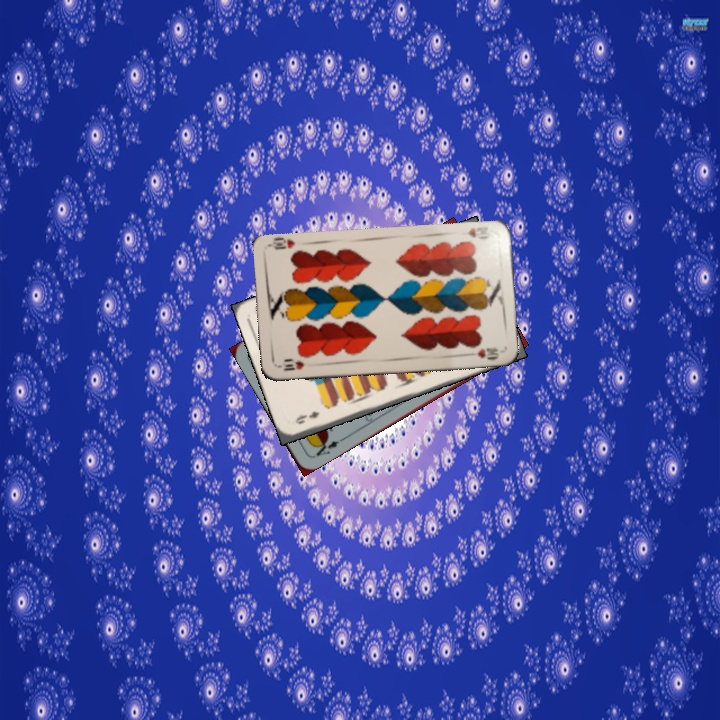E9: (291, 407, 322, 427)
EA: (309, 434, 346, 460)
H10: (463, 223, 493, 241), (280, 357, 306, 373)
